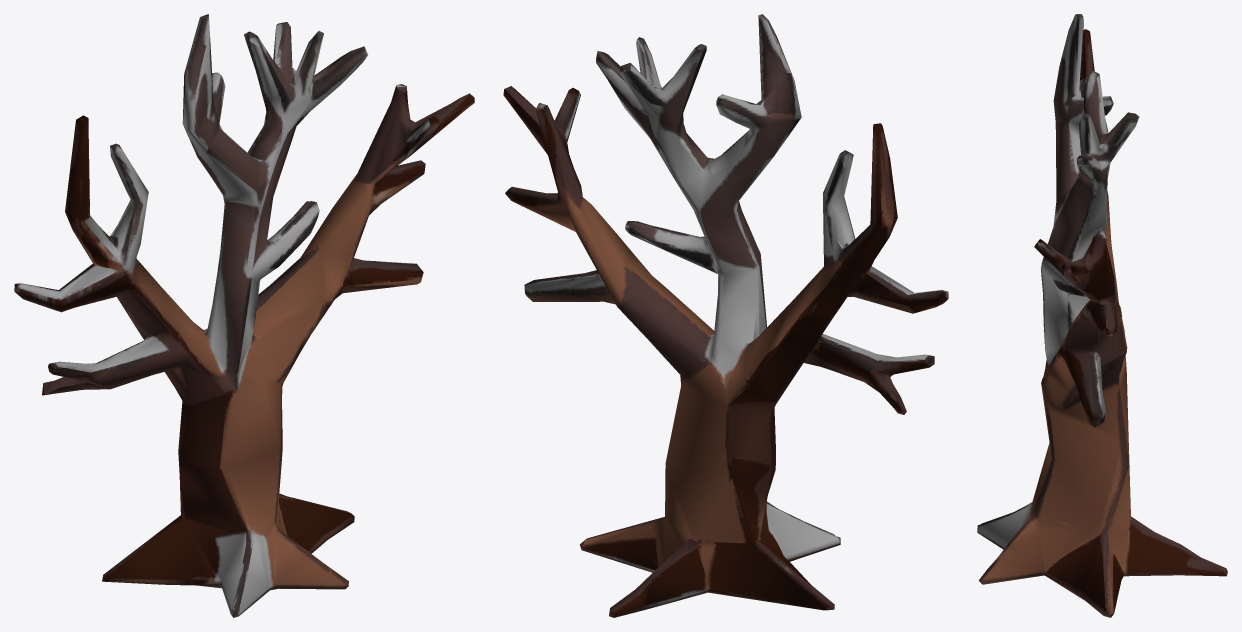
Rendered from twisted-dead-tree.glb.
3 views of the same model, side by side, from view 1: azimuth 30°, elevation 25°; view 2: azimuth 150°, elevation 25°; view 3: azimuth 270°, elevation 25° (orthographic). The views are drawn at different scales.
Parts seen in each view (by area): view 1: geometry_0; view 2: geometry_0; view 3: geometry_0.
Boxes of the visible parts, bbox=[...] form: geometry_0: bbox=[14, 14, 474, 617]; geometry_0: bbox=[503, 14, 948, 617]; geometry_0: bbox=[977, 14, 1227, 617].
Bounding box in the file's own units: 0.8409 × 0.9987 × 0.428.
1 material, 1 textured.
